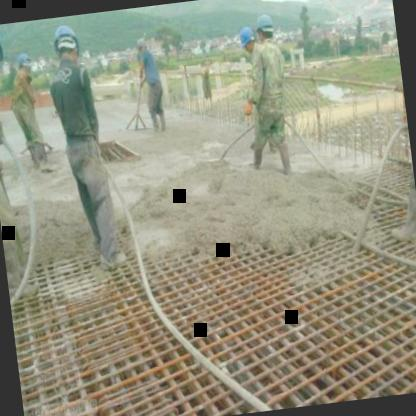helmet: (51, 22, 81, 66), (255, 8, 277, 50), (236, 22, 260, 60), (15, 49, 35, 80)
